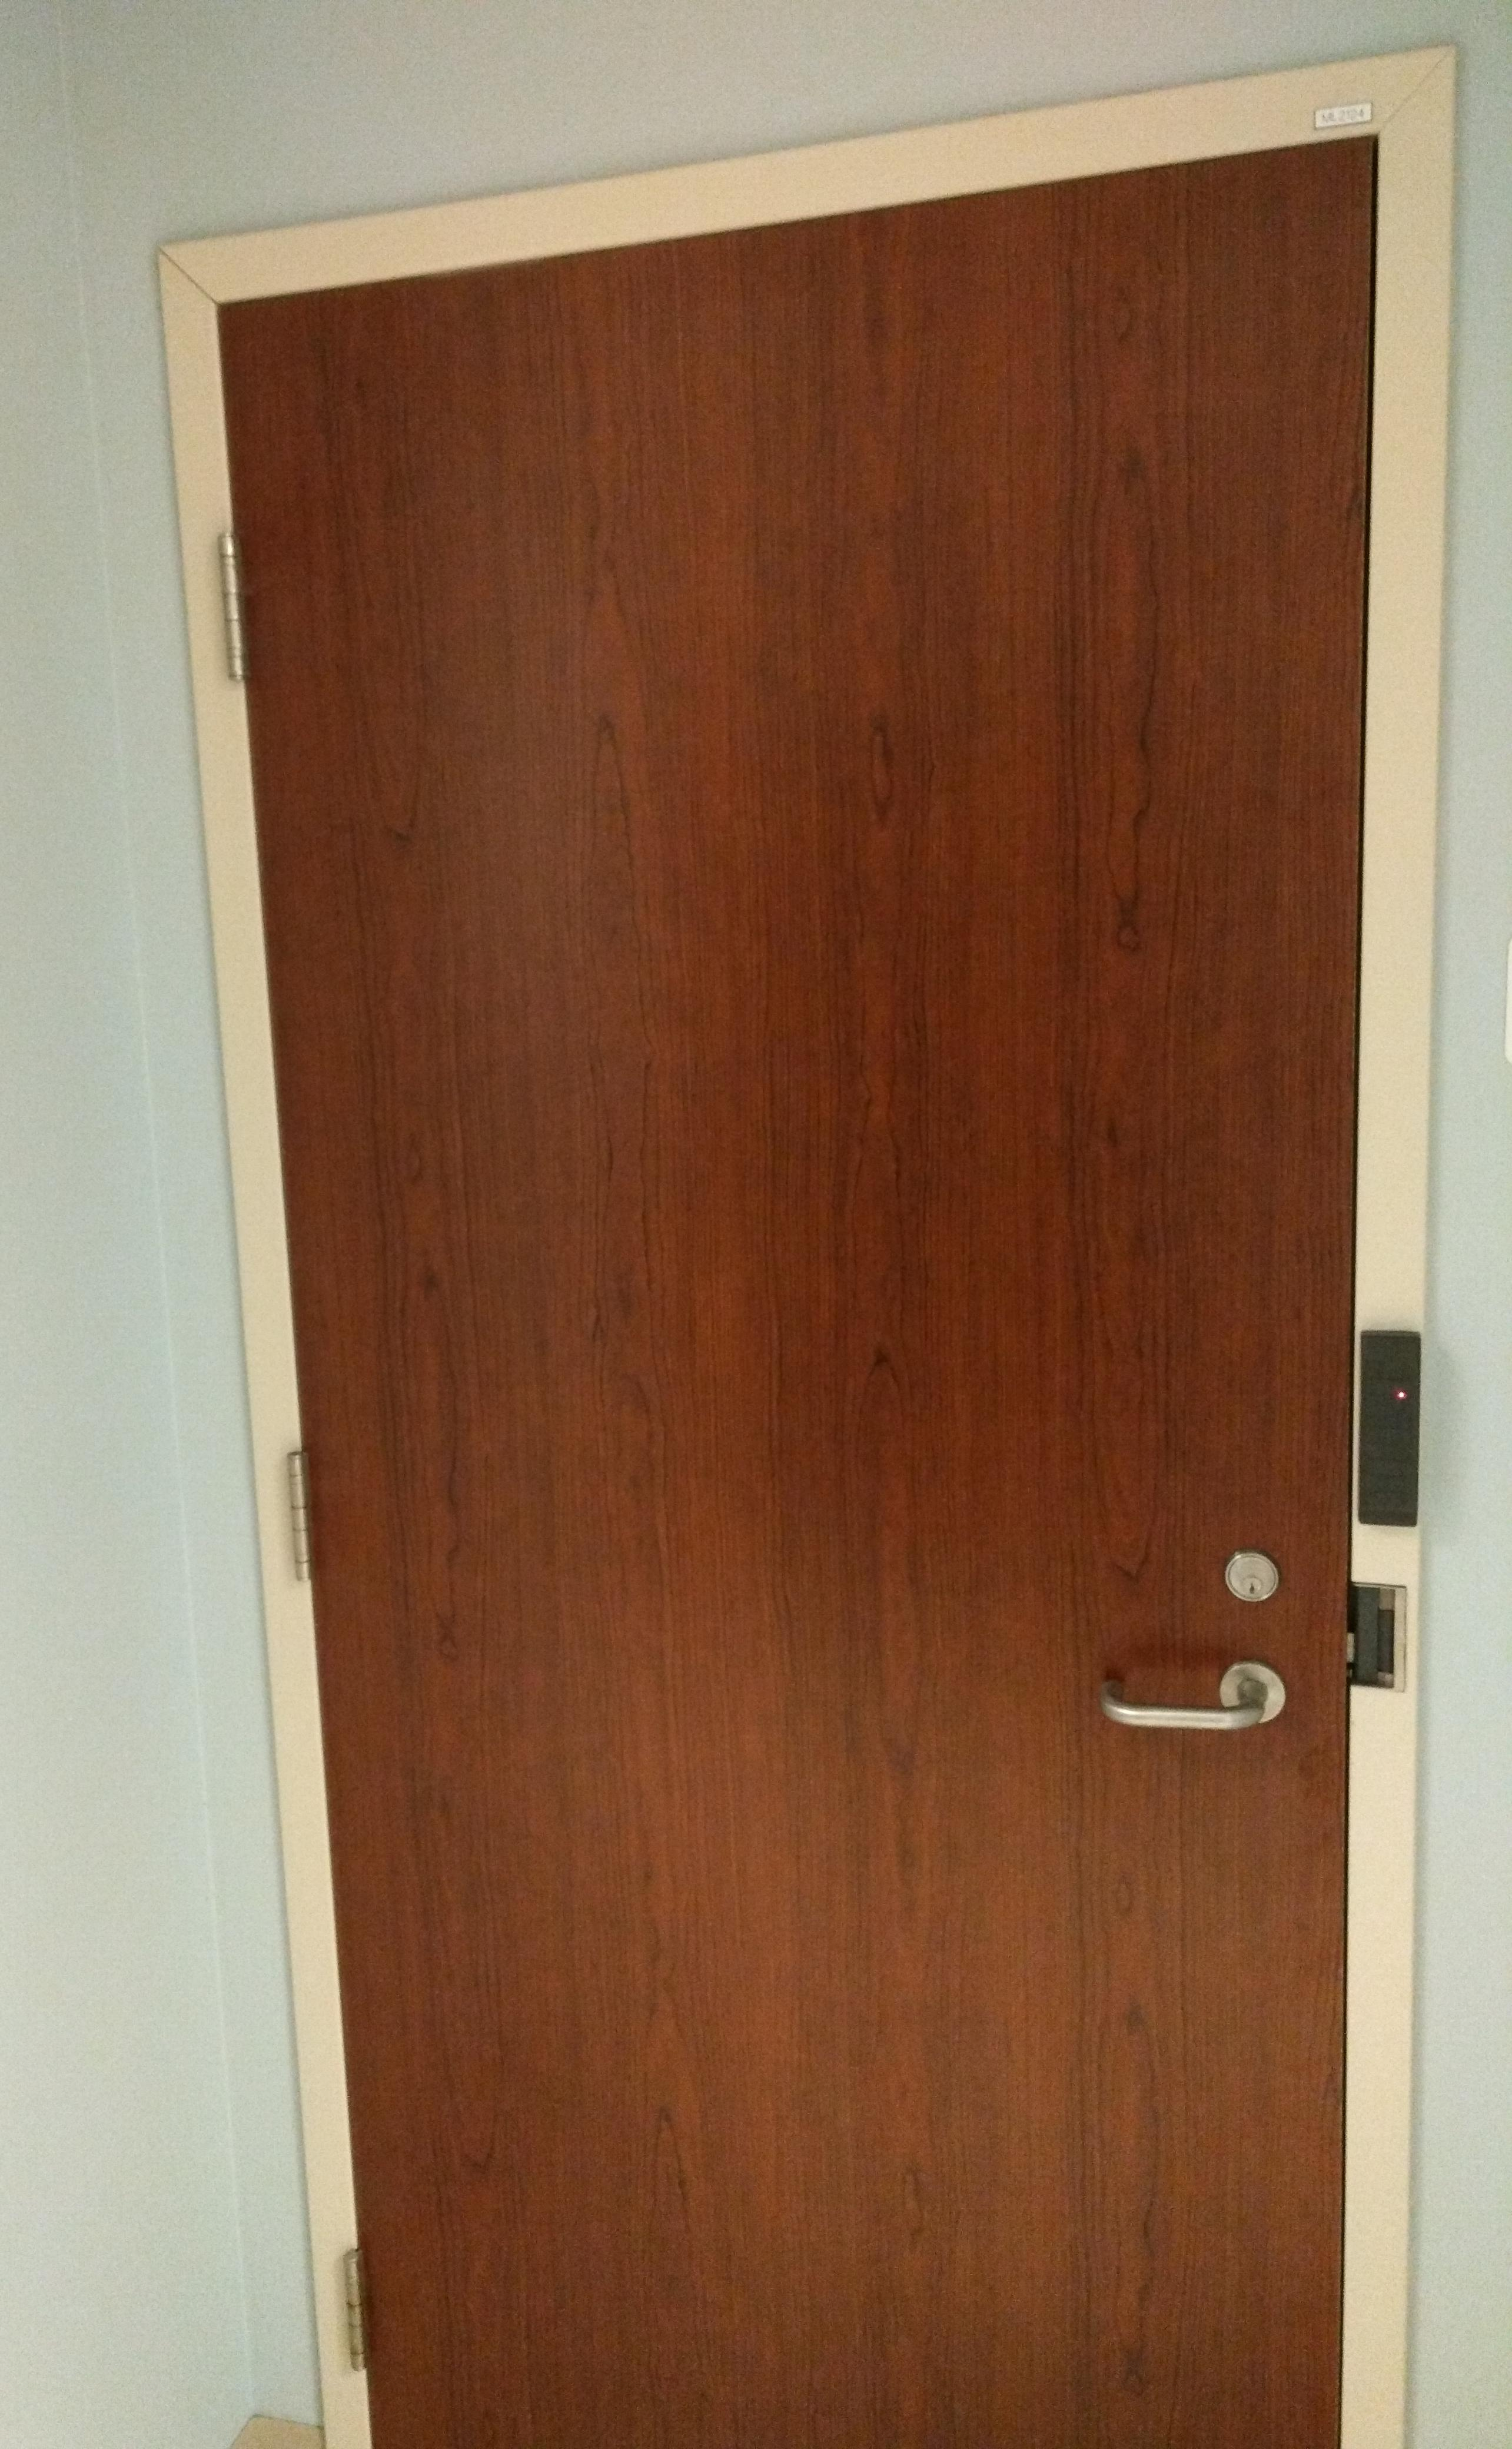door: (234, 100, 1379, 2449)
